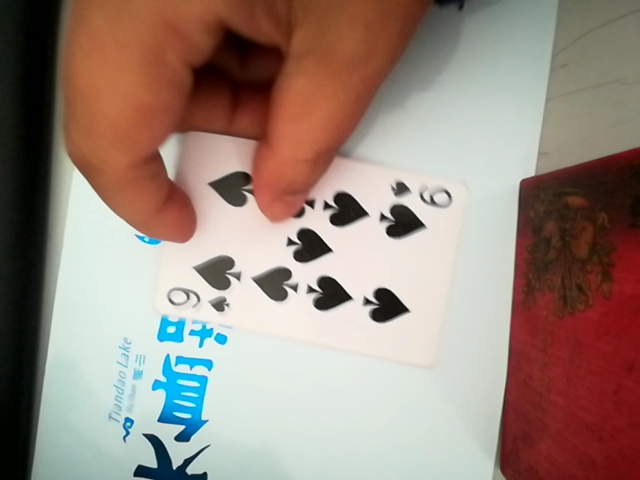ht 9: (151, 156, 465, 368)
